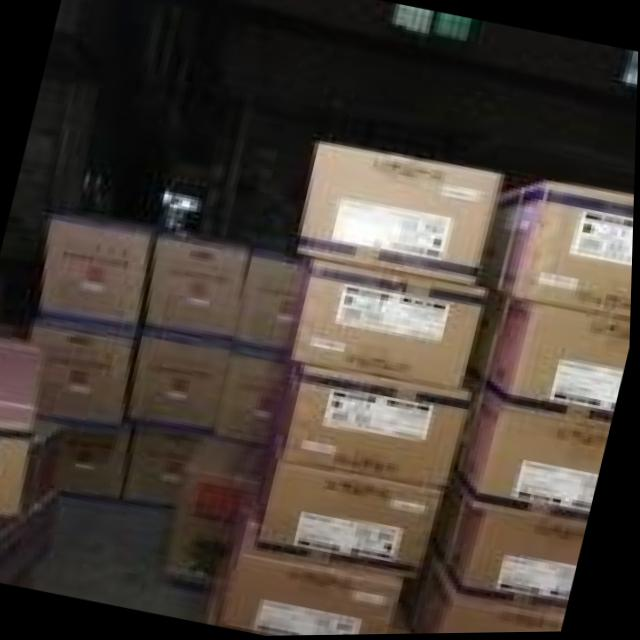box: (298, 141, 502, 289), (289, 260, 487, 391), (274, 364, 474, 493), (465, 289, 632, 431), (457, 383, 612, 530), (259, 459, 443, 580), (430, 486, 588, 624), (207, 528, 407, 637), (480, 185, 635, 321), (37, 212, 165, 337), (166, 439, 271, 589), (144, 227, 255, 351), (30, 323, 136, 437), (126, 336, 235, 439), (412, 568, 566, 635), (234, 248, 311, 362), (214, 354, 295, 451), (124, 430, 214, 507), (0, 423, 67, 518), (60, 428, 137, 502), (0, 336, 48, 428)
